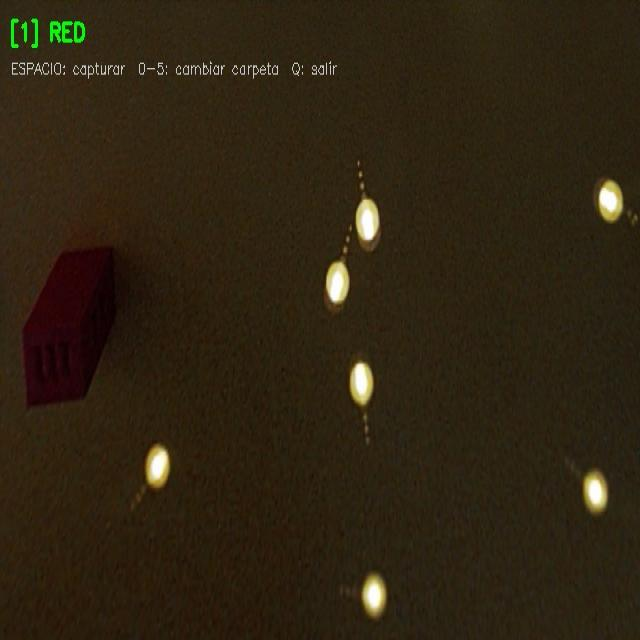red: (25, 247, 113, 400)
